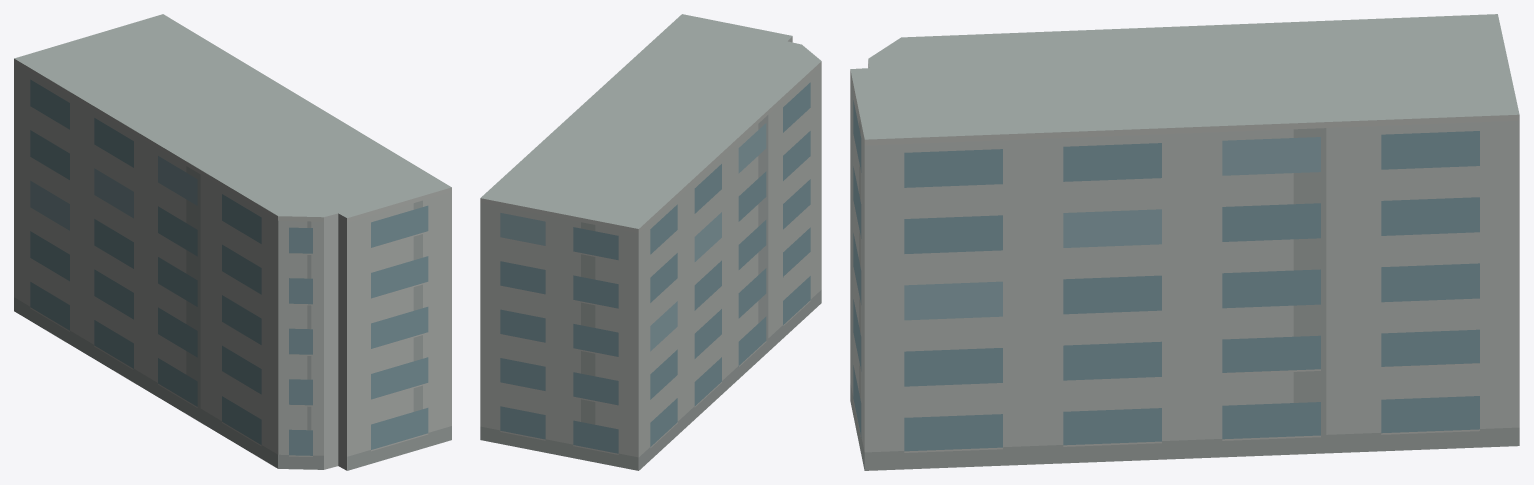
The model's file is survey-upis-32628597.glb.
3 views of the same model, side by side, from view 1: azimuth 30°, elevation 25°; view 2: azimuth 150°, elevation 25°; view 3: azimuth 270°, elevation 25° (orthographic). The views are drawn at different scales.
Parts seen in each view (by area): view 1: survey-upis-32628597.tmp; view 2: survey-upis-32628597.tmp; view 3: survey-upis-32628597.tmp.
Boxes of the visible parts, x1,y1,x2,y2 form: survey-upis-32628597.tmp: (14, 14, 451, 470); survey-upis-32628597.tmp: (480, 14, 821, 470); survey-upis-32628597.tmp: (850, 14, 1519, 470).
Bounding box in the file's own units: 10.91 × 13.4 × 24.54.
